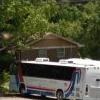Bus: (11, 57, 92, 100)
